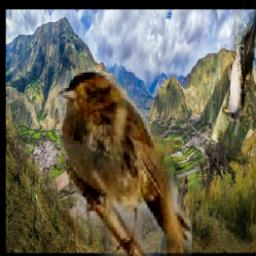Cuckoo: (223, 1, 256, 122)
Sparrow: (59, 71, 193, 256)
